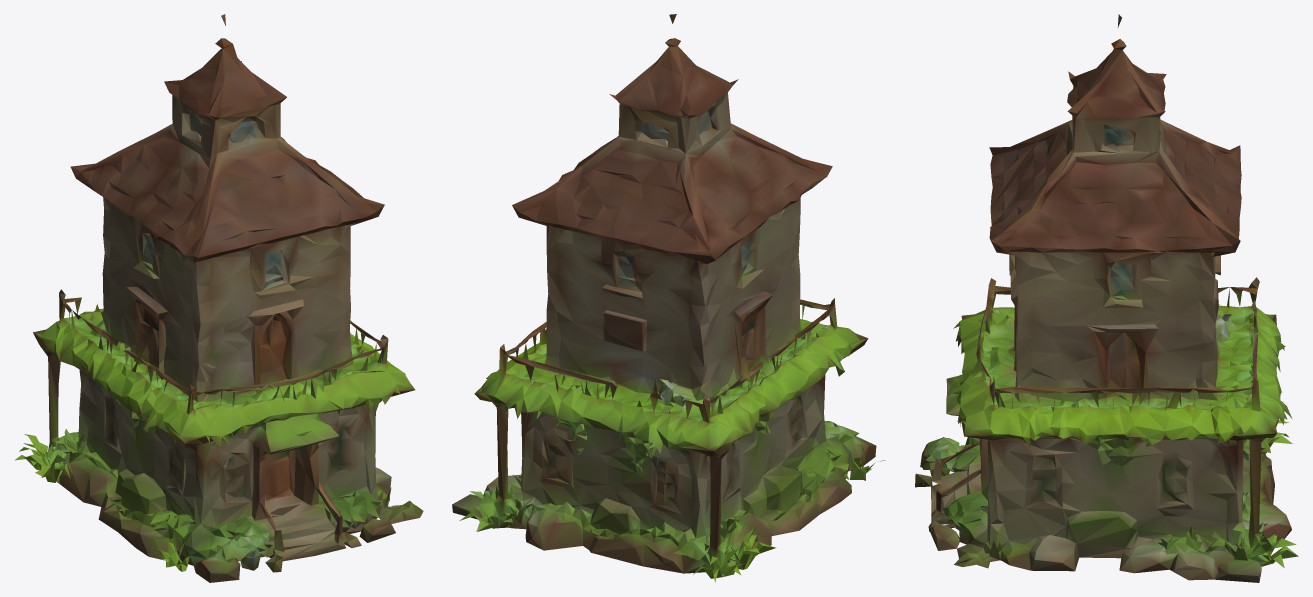
File: bq_tower_house.vc.glb
3 views of the same model, side by side, from view 1: azimuth 30°, elevation 25°; view 2: azimuth 150°, elevation 25°; view 3: azimuth 270°, elevation 25° (orthographic). The views are drawn at different scales.
Visible parts, largest first — view 1: bq_tower_house; view 2: bq_tower_house; view 3: bq_tower_house.
Part boxes in pixels (box(x1,y1,x2,y2)): bq_tower_house: box(15, 14, 423, 582); bq_tower_house: box(452, 14, 885, 582); bq_tower_house: box(915, 14, 1298, 582).
Size of the model in its own units: 1.19 by 1.85 by 1.31.
